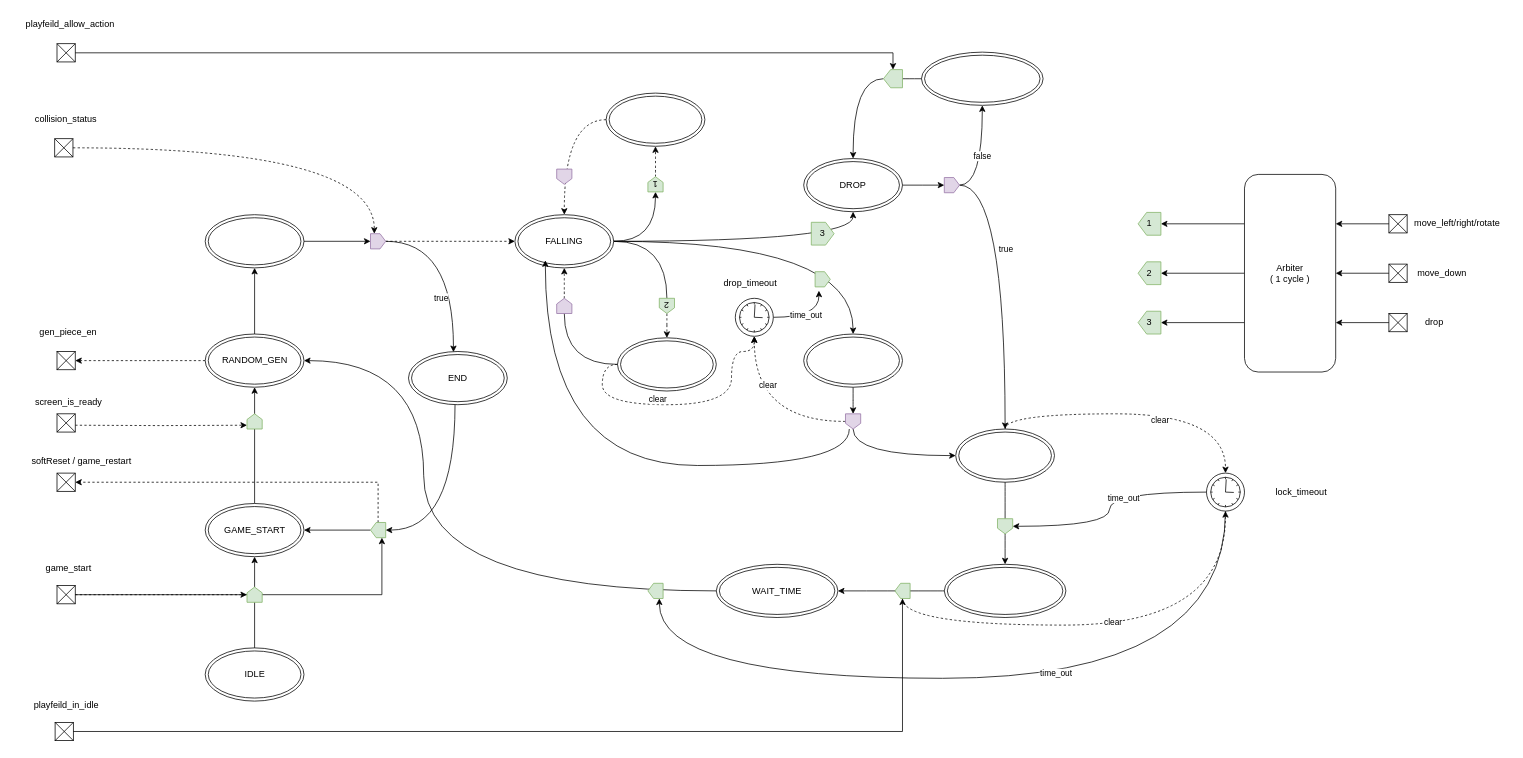
The diagram is 1523 pixels wide and 758 high, and some of its shapes have lost their labels. Here are the shapes that lost their labels. From the top down, the box of each, then its label:
(921, 51, 1043, 105): WAIT_ALLOW_ACTION
(605, 92, 705, 146): MOVE
(204, 214, 304, 268): PLACE
(617, 337, 716, 391): DOWN
(803, 333, 902, 387): LOCK
(955, 428, 1054, 482): LOCKDOWN
(944, 564, 1066, 618): CLEAN
